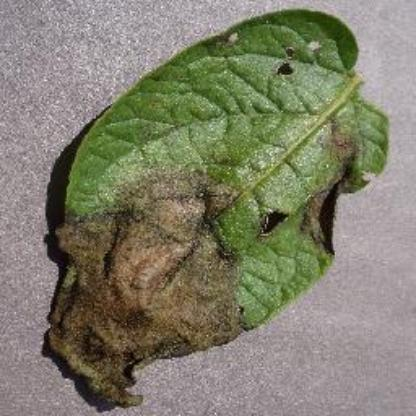Late-Blight: (33, 4, 398, 402)
